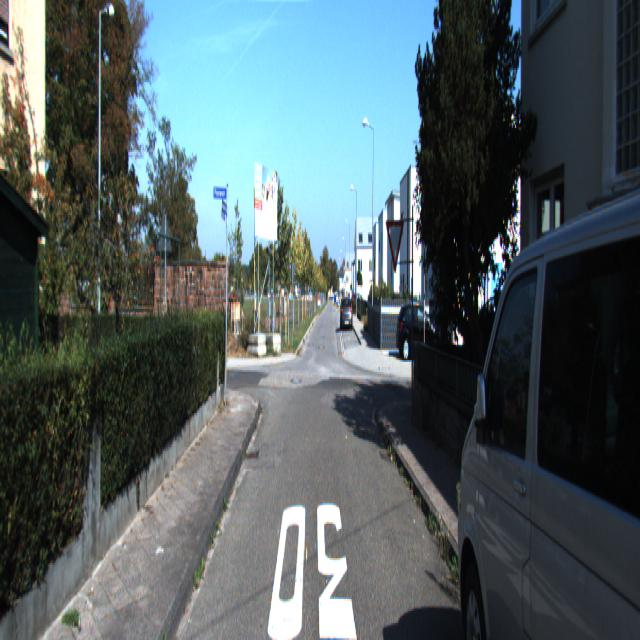Car: (456, 113, 640, 638), (396, 300, 445, 366), (340, 297, 353, 331)
